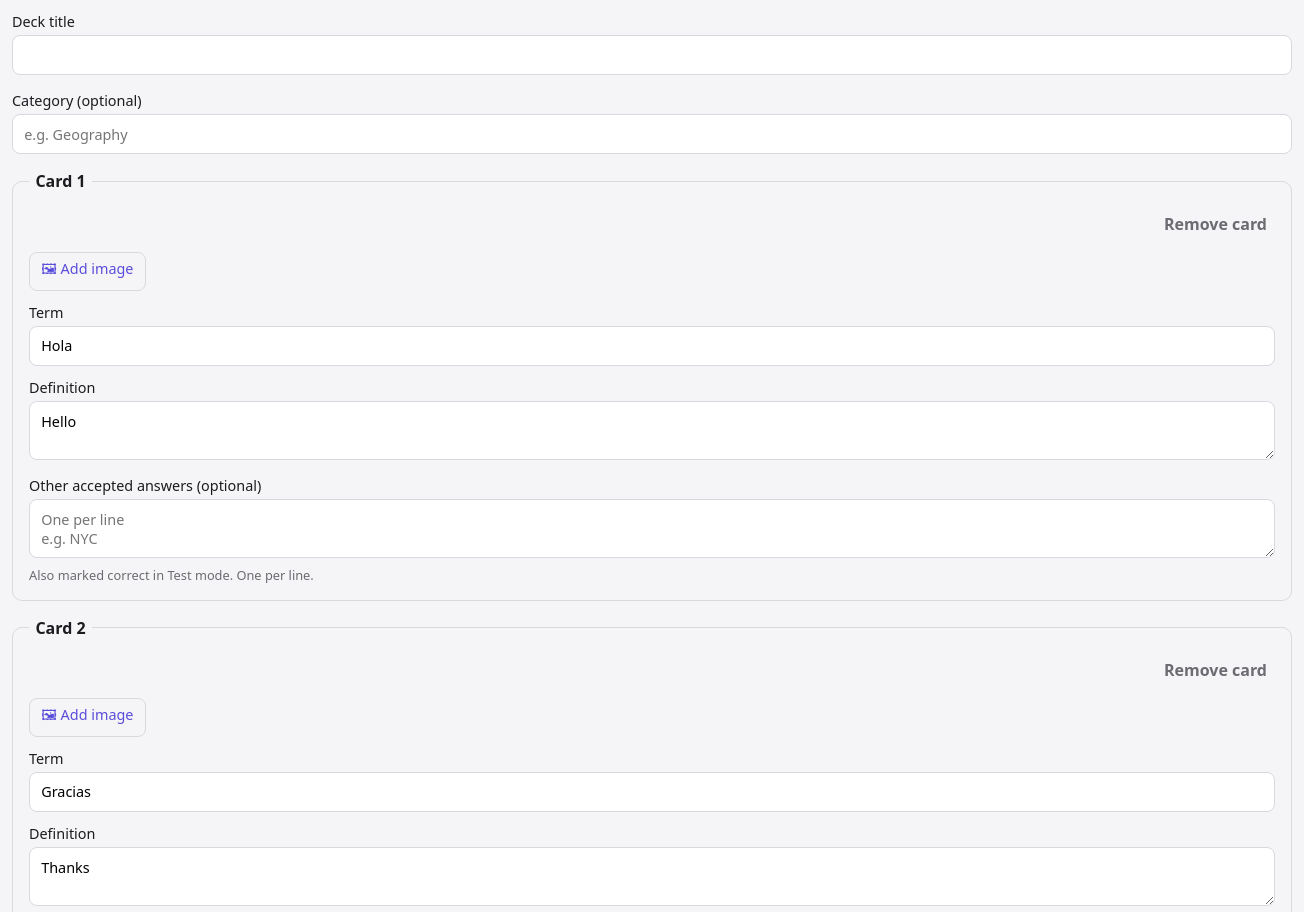
Scenario: DeckForm › removes an individual card, and hides the remove control when only one remains
This screenshot has width=1304, height=912.
Expected: the 1st field showing "Hola" is shown, [29,326,1275,366]
Step 1. Click the button with aria-label "Remove card 1" → (1216, 224), box [1156,208,1275,240]
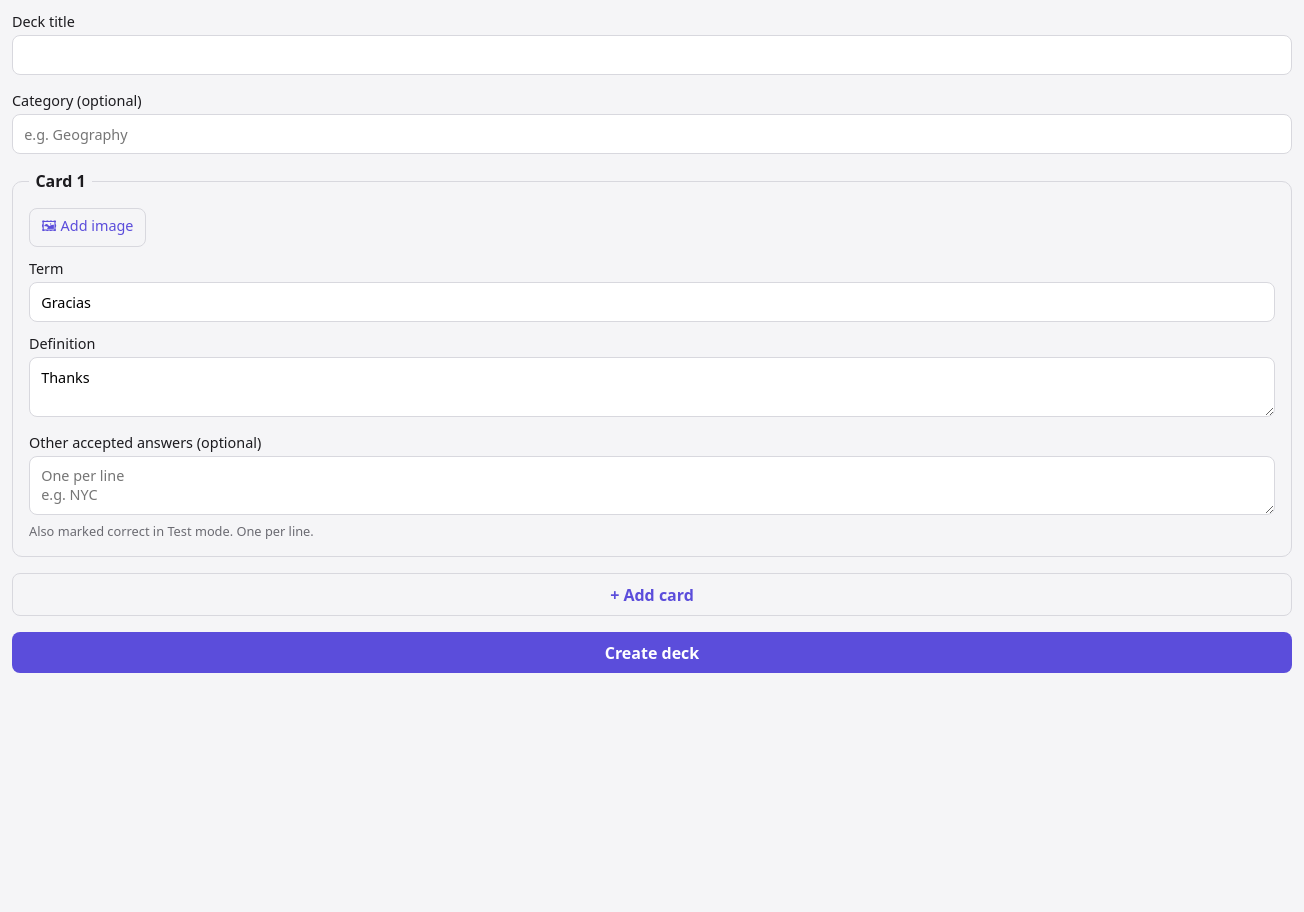
Expected: the field showing "Hola" is not shown
Expected: the button labelled "Remove card" is gone
